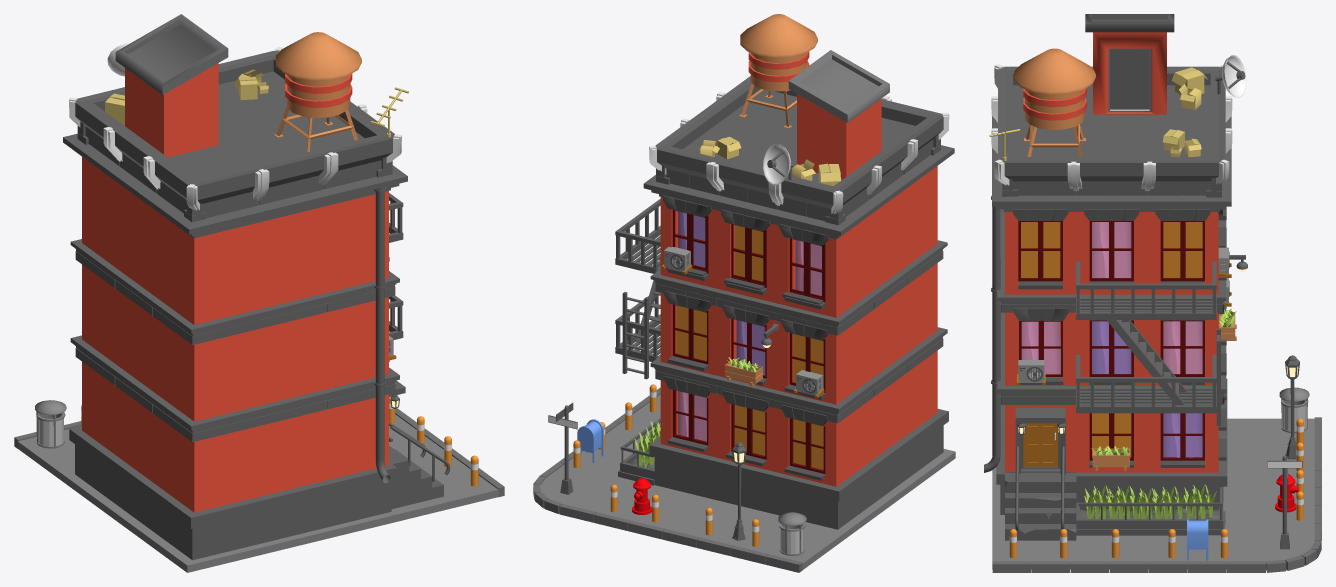
Rendered from apartment.glb.
3 renders of one model, left to right at view 1: azimuth 30°, elevation 25°; view 2: azimuth 150°, elevation 25°; view 3: azimuth 270°, elevation 25°, orthographic. The views are drawn at different scales.
Visible parts, largest first — view 1: CorniceAiuolaEsterna; view 2: CorniceAiuolaEsterna; view 3: CorniceAiuolaEsterna.
Boxes of the visible parts, x1,y1,x2,y2 form: CorniceAiuolaEsterna: [14, 14, 504, 572]; CorniceAiuolaEsterna: [533, 14, 955, 572]; CorniceAiuolaEsterna: [984, 14, 1321, 572].
Bounding box in the file's own units: 3.26 × 4.65 × 3.16.
